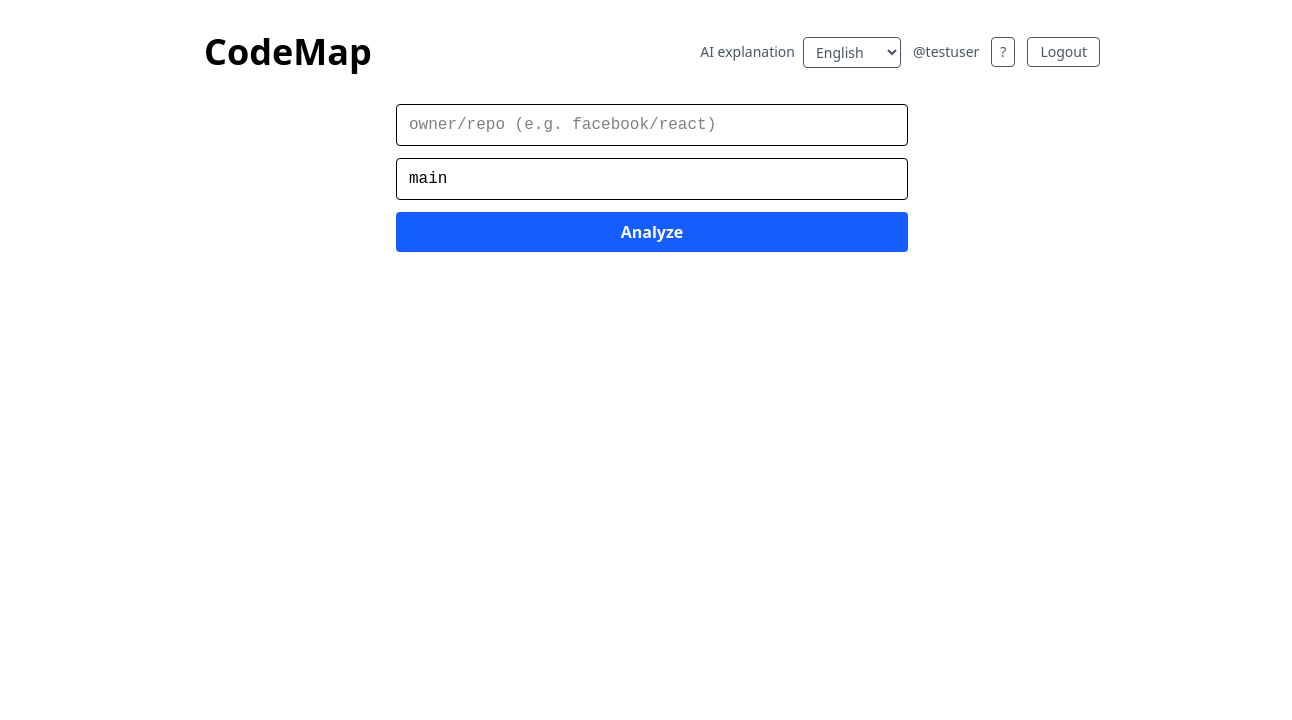
Home — with results › shows repo info in the header after analysis
Check: the button "Analyze" is shown, box top-left (396, 212), bottom-right (908, 252)
Type "facebook/react" into the field with placeholder "owner/repo (e.g. facebook/react)" at (652, 125), box top-left (396, 104), bottom-right (908, 146)
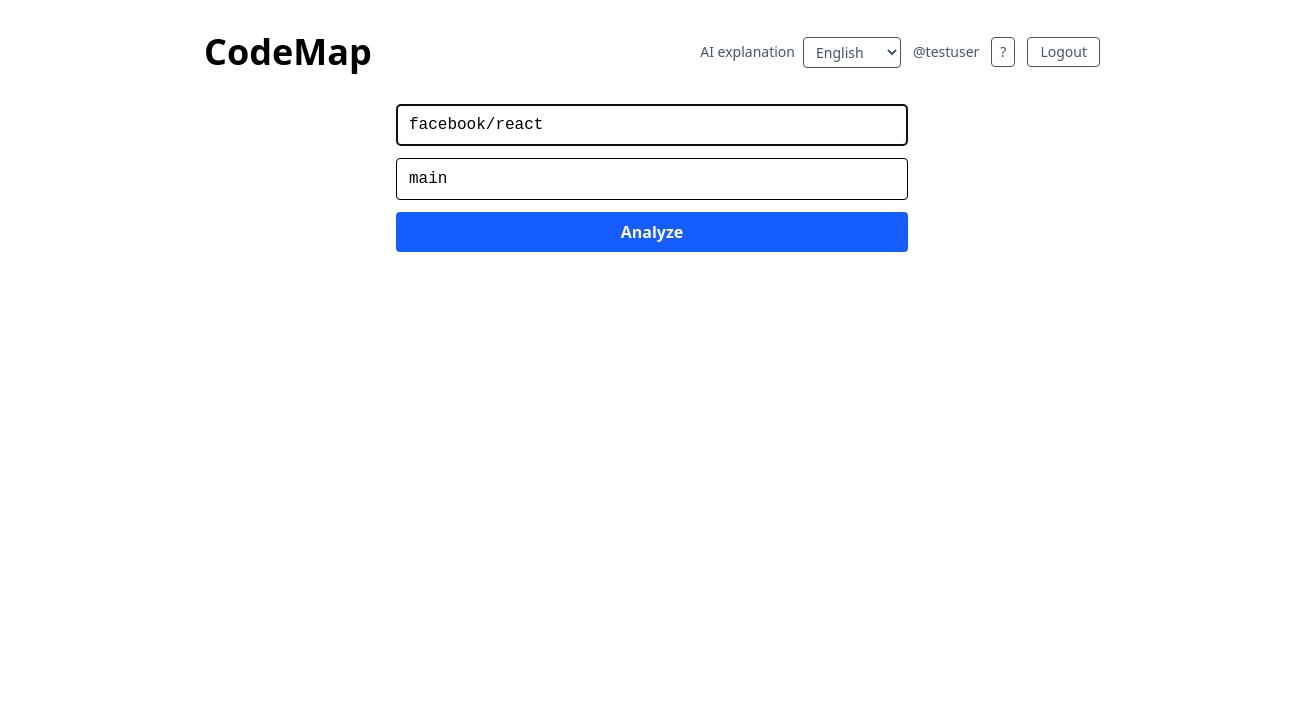
Click the button "Analyze" at (652, 232), box top-left (396, 212), bottom-right (908, 252)
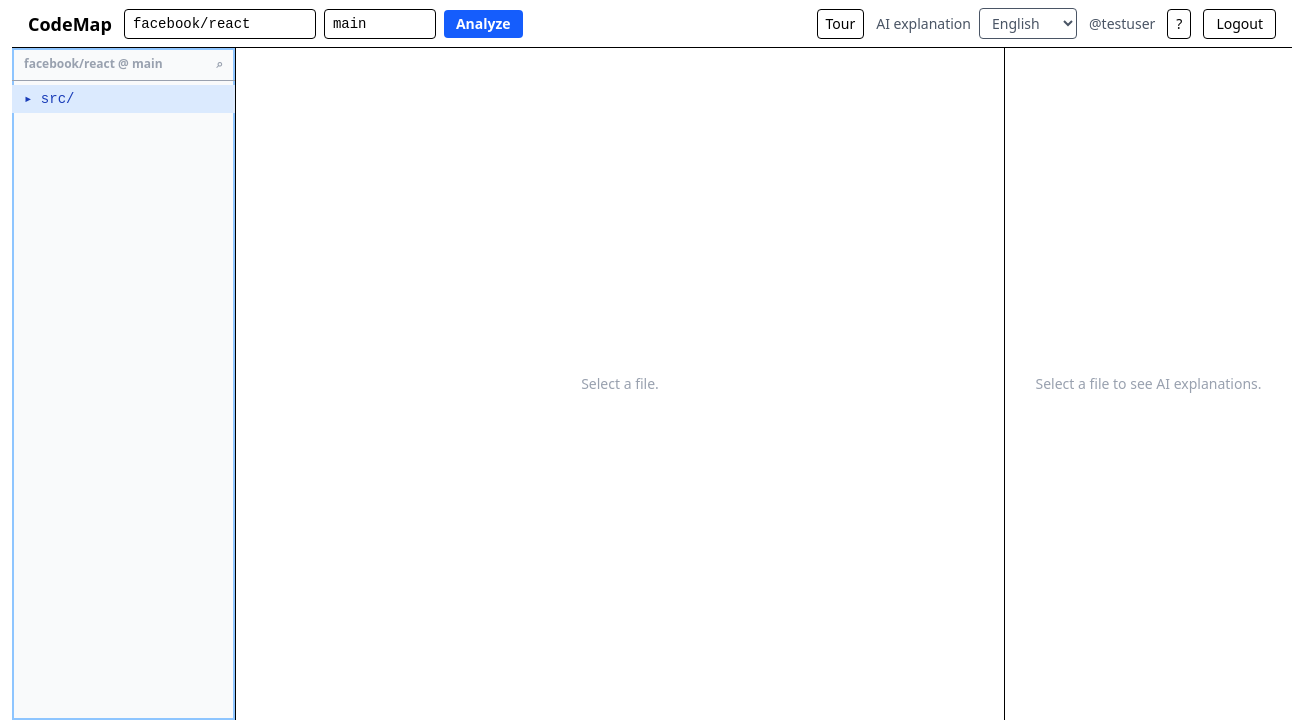
Check: the text "facebook/react @ main" is shown, box top-left (24, 56), bottom-right (162, 72)
